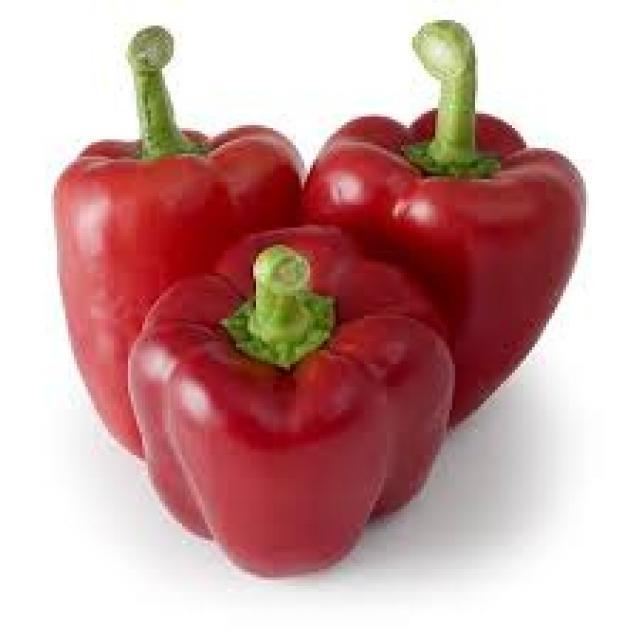Pepper: (126, 224, 458, 580), (52, 29, 306, 466), (300, 112, 588, 432)
